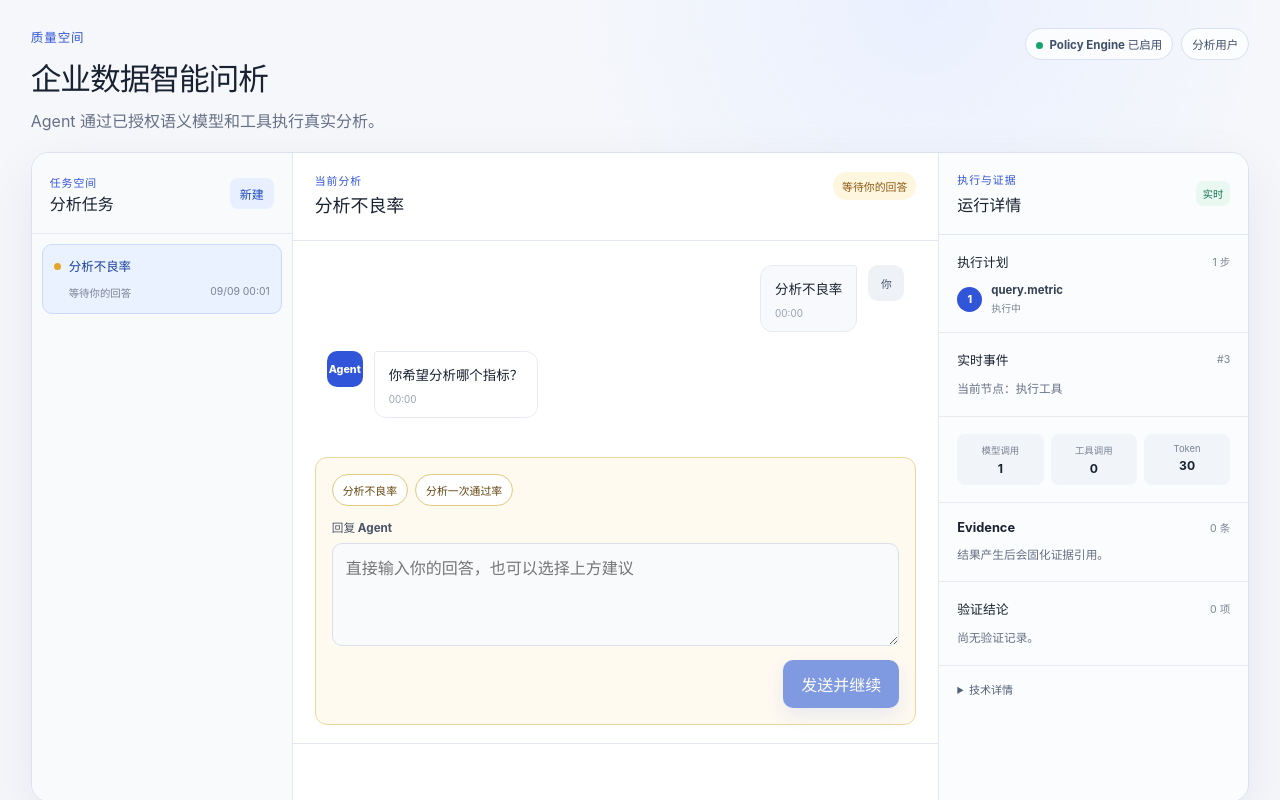
Scenario: shows an actionable clarification and lets a suggestion fill the response
Expected: the element named "分析对话" shows "你希望分析哪个指标？", [389,367,523,383]
Click the button "分析不良率".
click(370, 490)  # box [332,474,408,506]
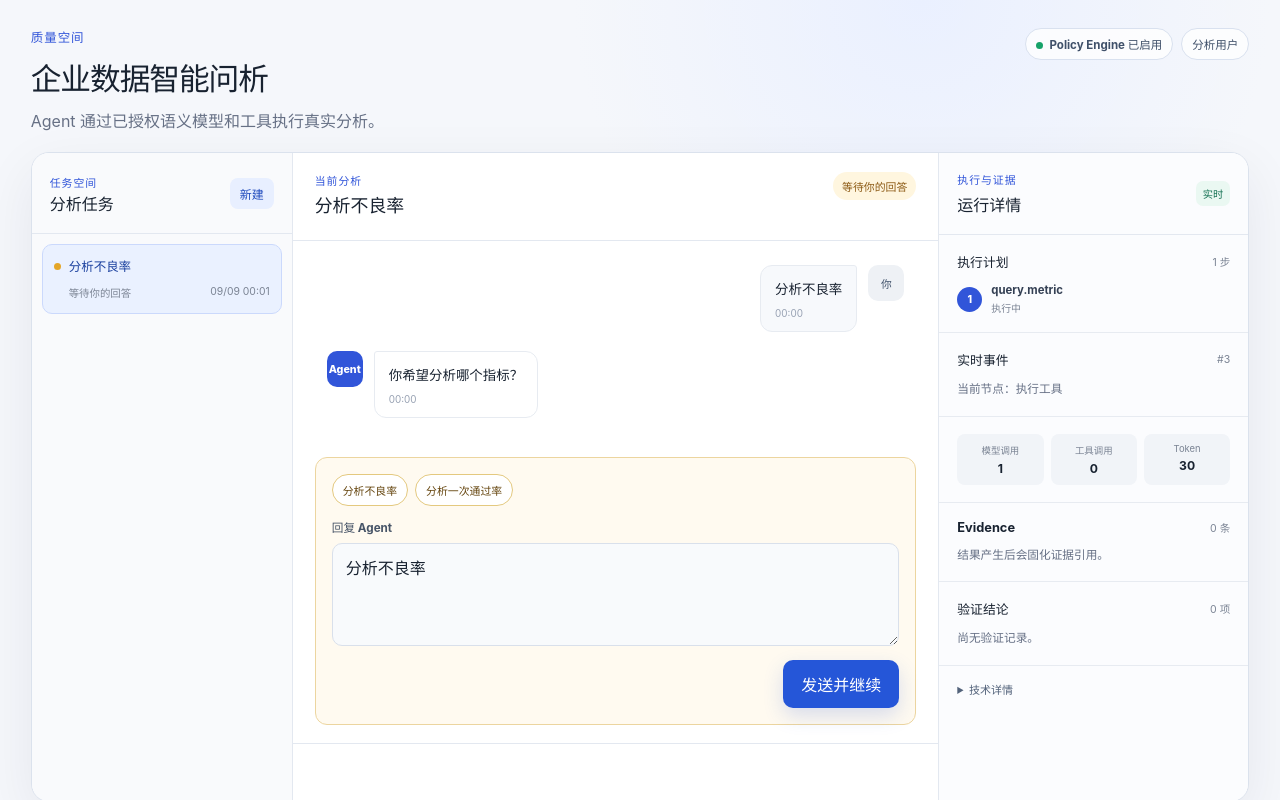
Expected: the text box labelled "回复 Agent" holds "分析不良率", [332,543,899,646]
